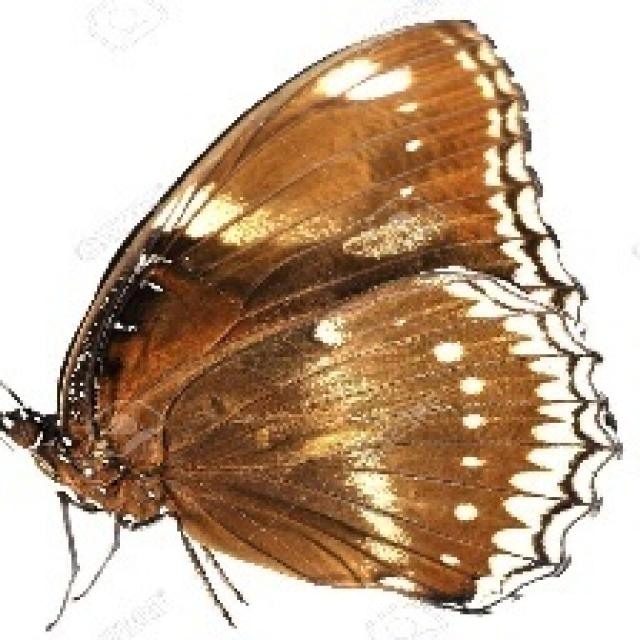butterfly: (0, 14, 623, 632)
